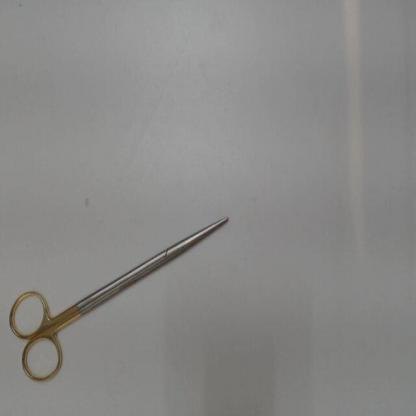7 Metzenbaum Scissors: (7, 216, 230, 387)
